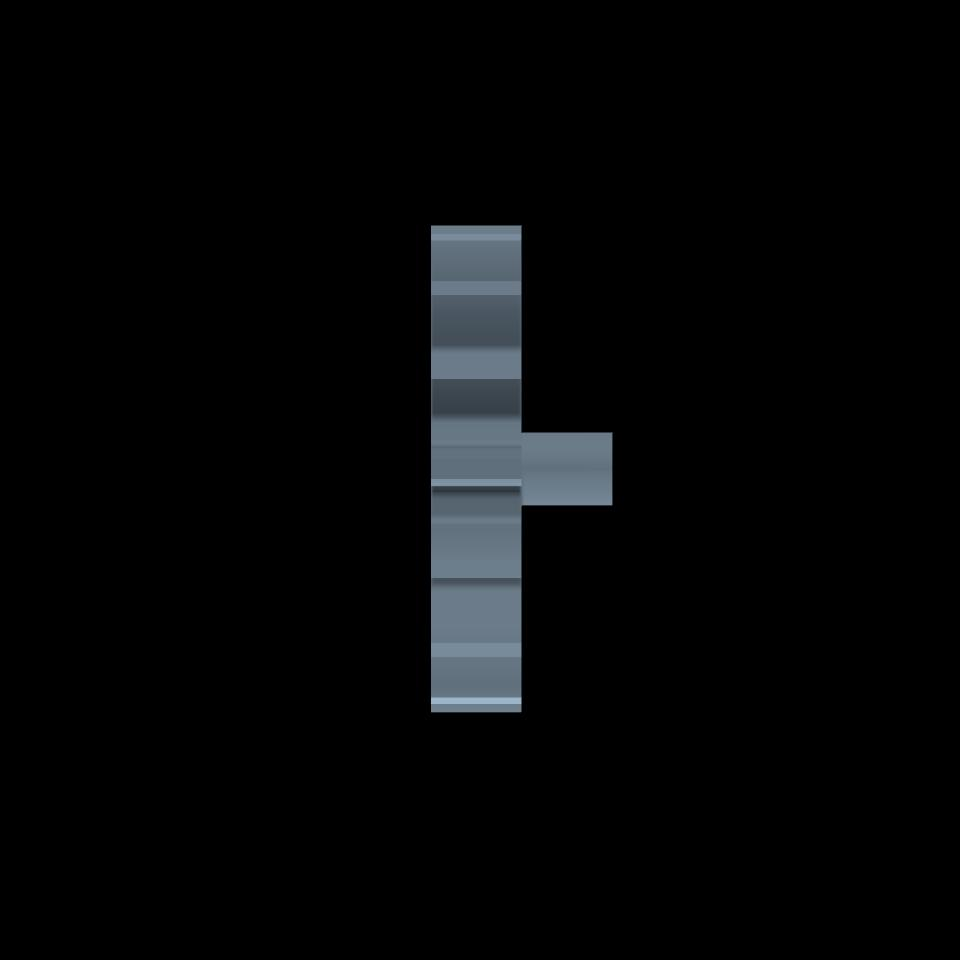Straight: (432, 225, 522, 711)
